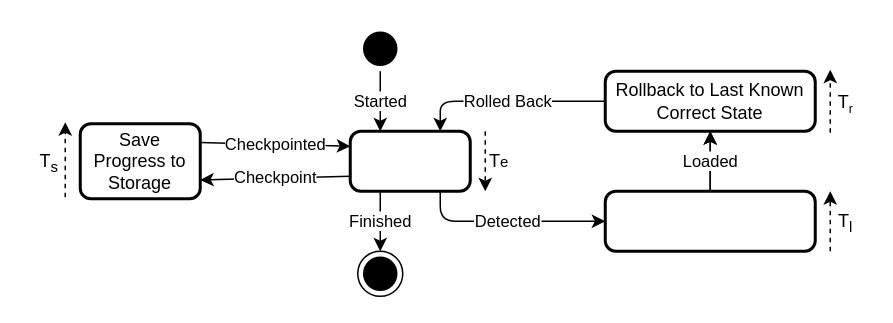
Image size: 893x323. Some labels were removed from this diagram. Each missing label, with the box of its shape:
Execute: (348, 129, 471, 192)
Load Last Consistent Progress from Storage: (603, 189, 816, 252)
